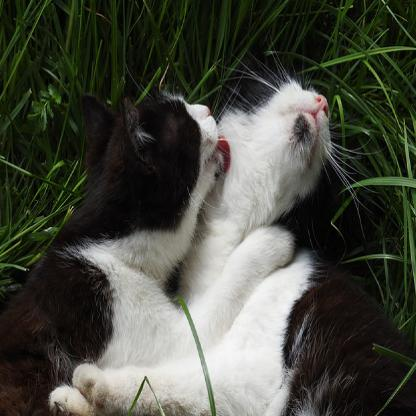cat: (47, 78, 414, 415), (1, 75, 231, 415)
